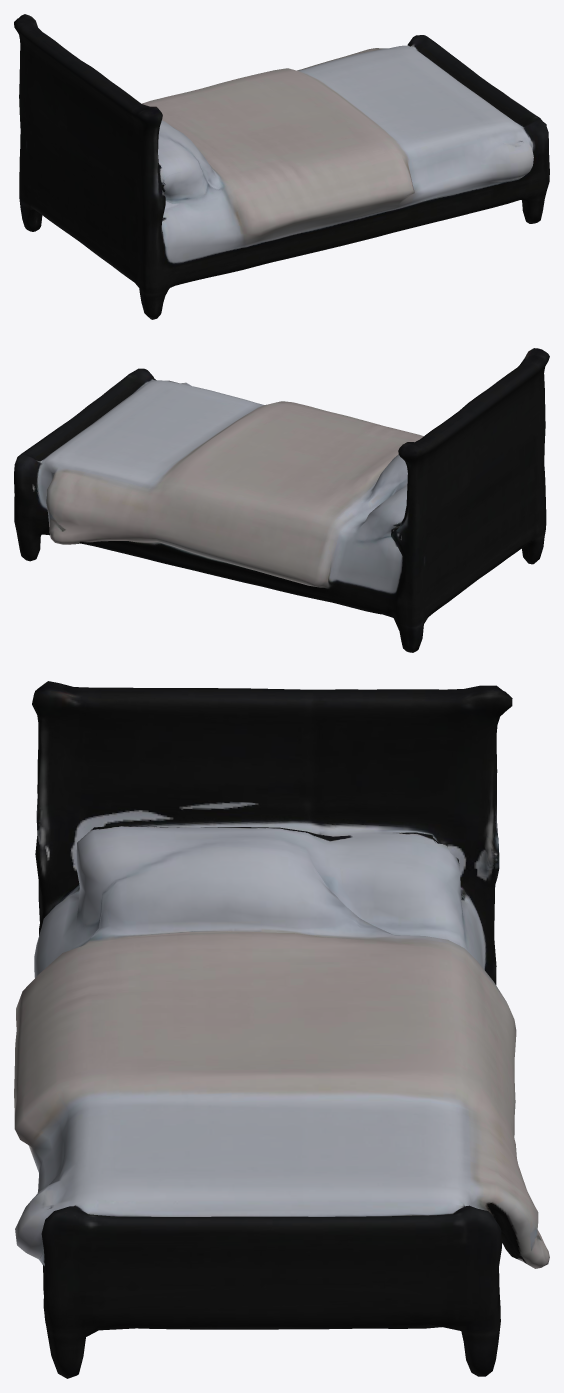
Rendered from 13d02342052d_bed__3d_asset_0_glb.fbx.
3 renders of one model, top to bottom at view 1: azimuth 30°, elevation 25°; view 2: azimuth 150°, elevation 25°; view 3: azimuth 270°, elevation 25°, orthographic. The views are drawn at different scales.
Parts seen in each view (by area): view 1: mesh; view 2: mesh; view 3: mesh.
Part boxes in pixels (x1,y1,x2,y2): mesh: [14, 14, 549, 319]; mesh: [14, 348, 549, 652]; mesh: [14, 681, 549, 1378].
Size of the model in its own units: 99.9 by 49.18 by 65.18.
